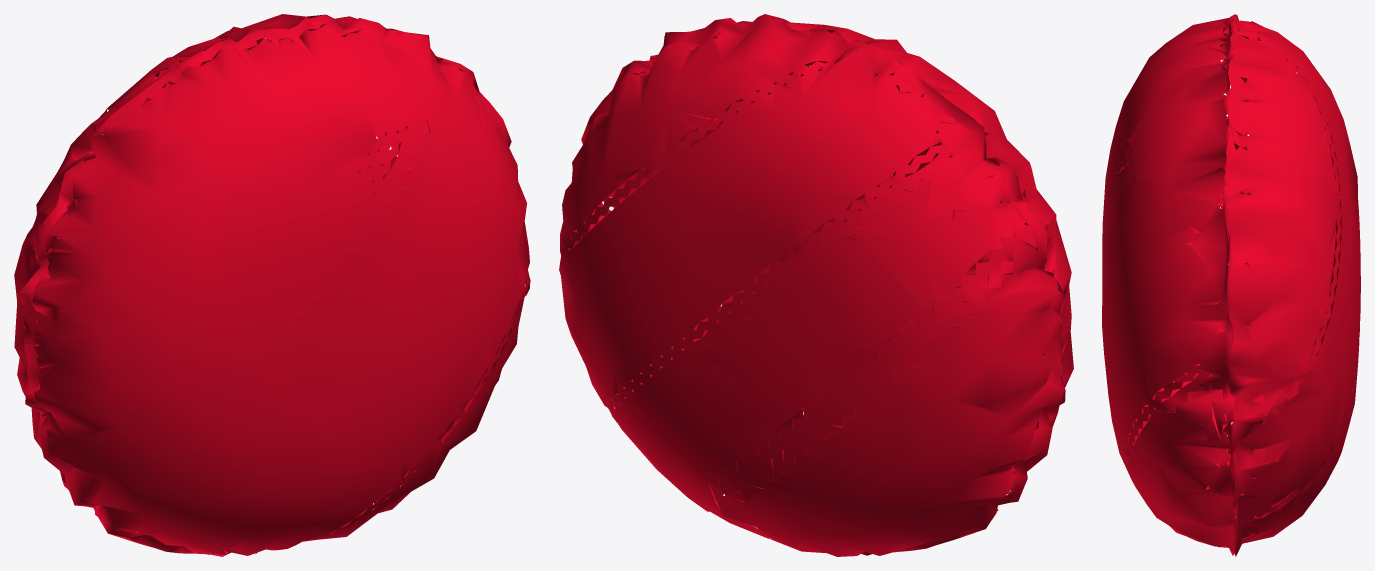
The model's file is metallicBallon.fbx.
The picture shows the model from 3 angles, left to right: view 1: azimuth 30°, elevation 25°; view 2: azimuth 150°, elevation 25°; view 3: azimuth 270°, elevation 25°; orthographic projection. The views are drawn at different scales.
Visible parts, largest first — view 1: Object_5; view 2: Object_5; view 3: Object_5.
Boxes of the visible parts, box(x1,y1,x2,y2) form: Object_5: box(14, 14, 530, 556); Object_5: box(559, 14, 1073, 556); Object_5: box(1102, 14, 1360, 556).
Size of the model in its own units: 7838 by 7831 by 3751.
